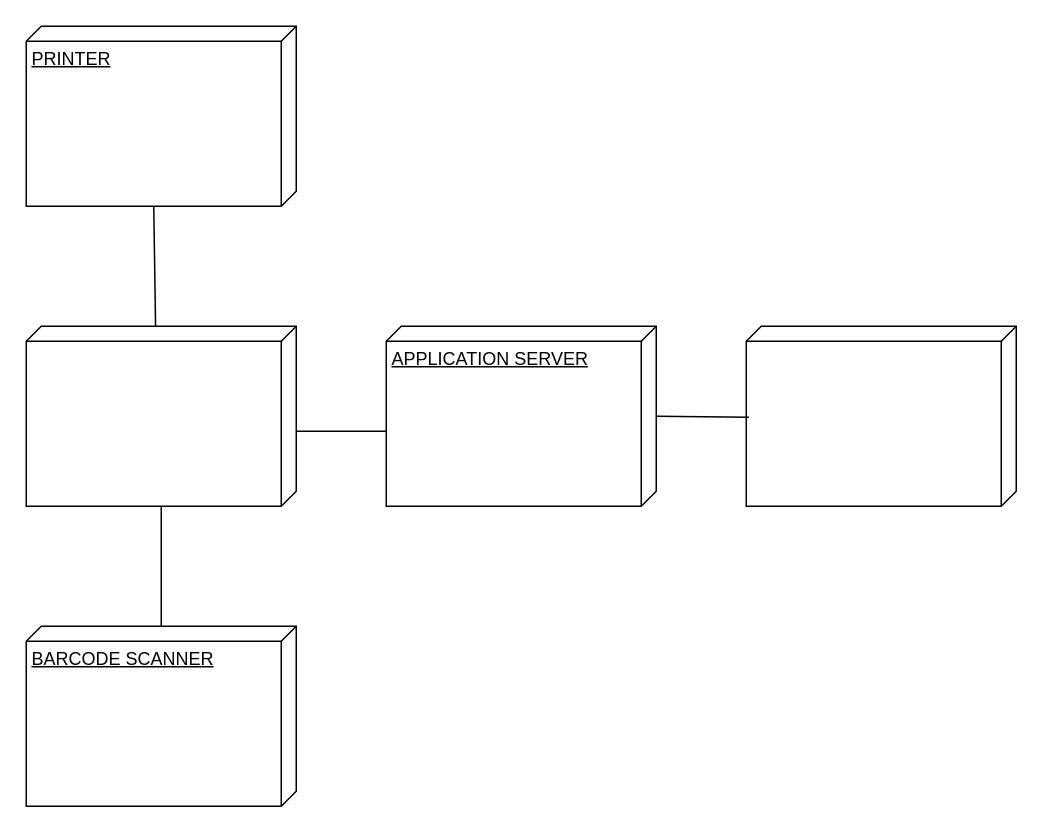
Image size: 1043x833. Some labels were removed from this diagram. Here are the shapes that lost their labels. From the top down, the centre of each, then its label:
(x=160, y=415): TERMINAL
(x=880, y=415): DATABASE
